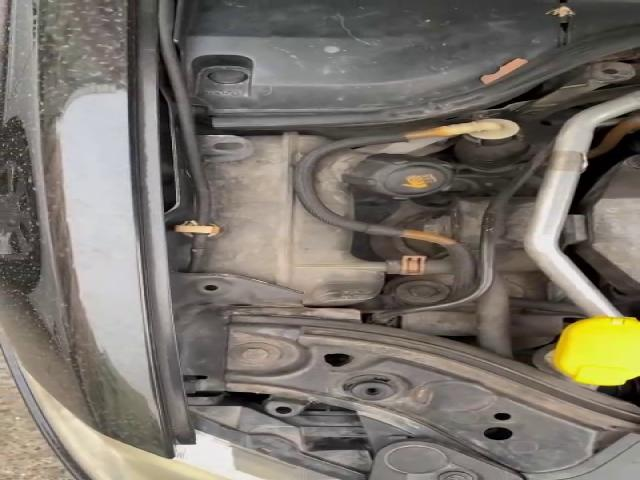antifreeze_tank: (201, 133, 386, 306), (316, 150, 455, 218)
